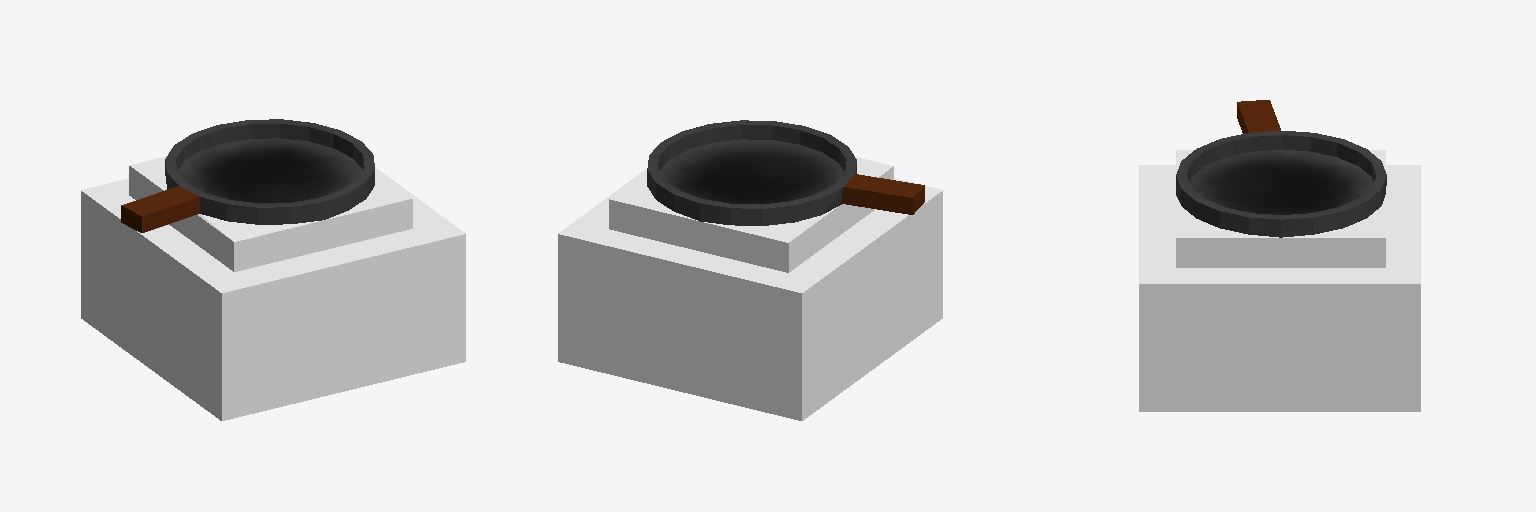
The picture shows the model from 3 angles: view 1: azimuth 30°, elevation 25°; view 2: azimuth 150°, elevation 25°; view 3: azimuth 270°, elevation 25°; orthographic projection.
Visible parts, largest first — view 1: Pan:pasted__pasted__pCylinder2pasted__group5group6; view 2: Pan:pasted__pasted__pCylinder2pasted__group5group6; view 3: Pan:pasted__pasted__pCylinder2pasted__group5group6.
Part boxes in pixels (x1,y1,x2,y2): Pan:pasted__pasted__pCylinder2pasted__group5group6: (81,119,465,420); Pan:pasted__pasted__pCylinder2pasted__group5group6: (558,120,942,420); Pan:pasted__pasted__pCylinder2pasted__group5group6: (1139,100,1420,411).
Bounding box in the file's own units: 1.14 × 0.6895 × 1.
Materials: 1 (1 with a texture image).